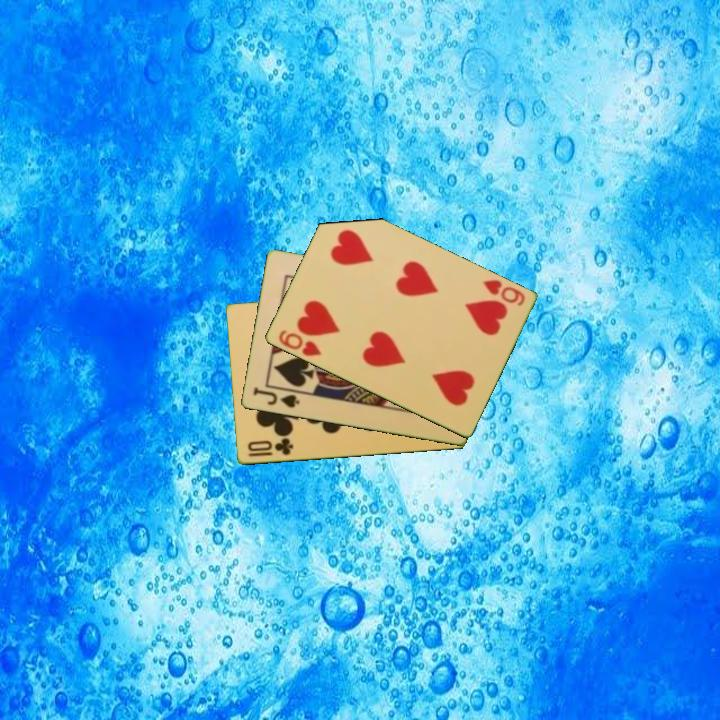10c: (244, 435, 296, 460)
6h: (275, 327, 324, 360), (478, 276, 527, 309)
Js: (249, 384, 302, 411)
